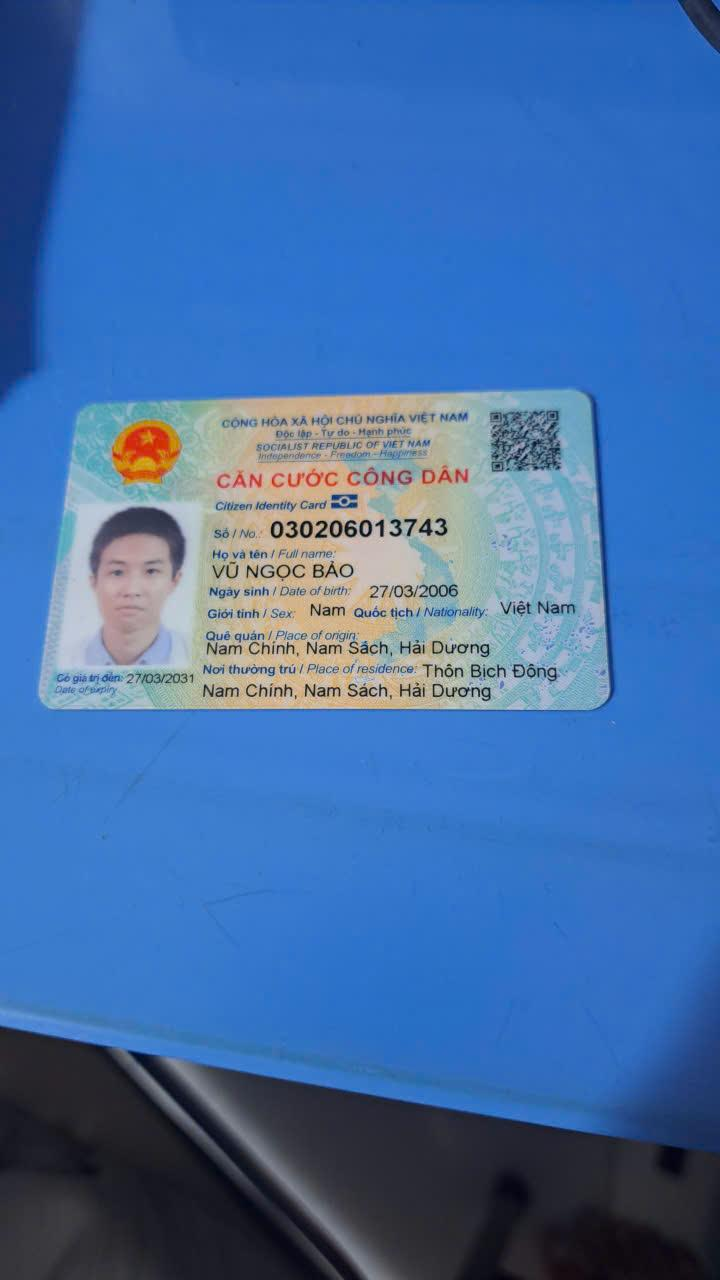cccd: (34, 381, 615, 715)
